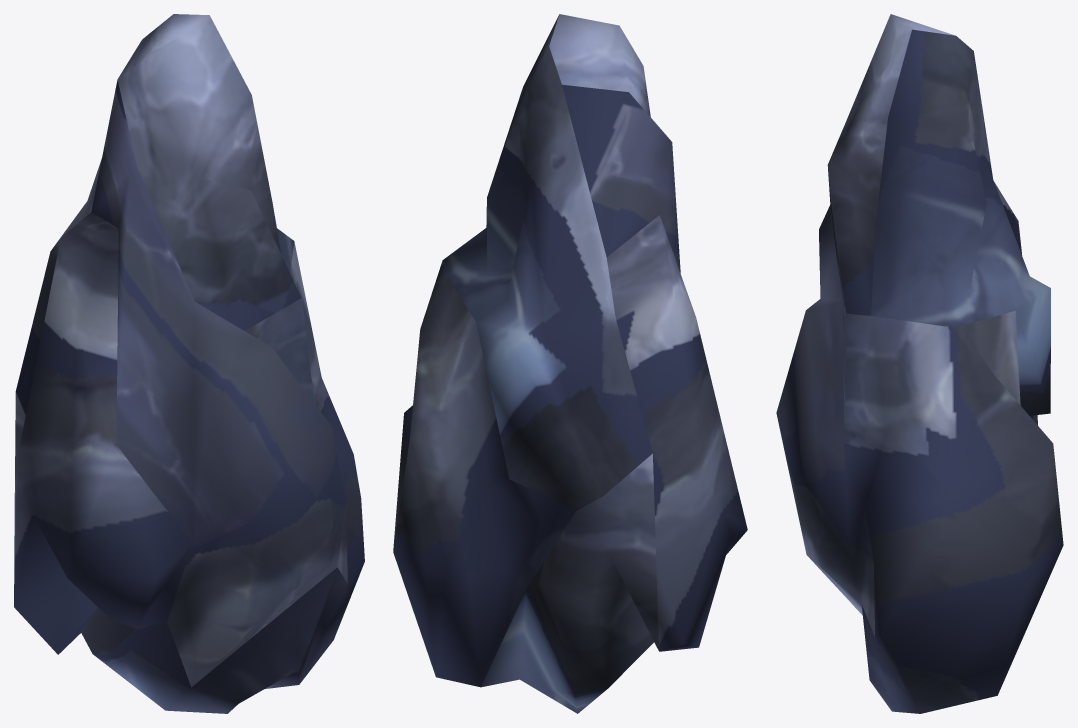
File: Snake_rock_04.fbx
3 views of the same model, side by side, from view 1: azimuth 30°, elevation 25°; view 2: azimuth 150°, elevation 25°; view 3: azimuth 270°, elevation 25° (orthographic). The views are drawn at different scales.
Parts seen in each view (by area): view 1: Snake_rock_04; view 2: Snake_rock_04; view 3: Snake_rock_04.
Boxes of the visible parts, x1,y1,x2,y2 form: Snake_rock_04: (14, 14, 364, 713); Snake_rock_04: (393, 14, 747, 713); Snake_rock_04: (776, 14, 1063, 713).
Bounding box in the file's own units: 274 × 588 × 232.
